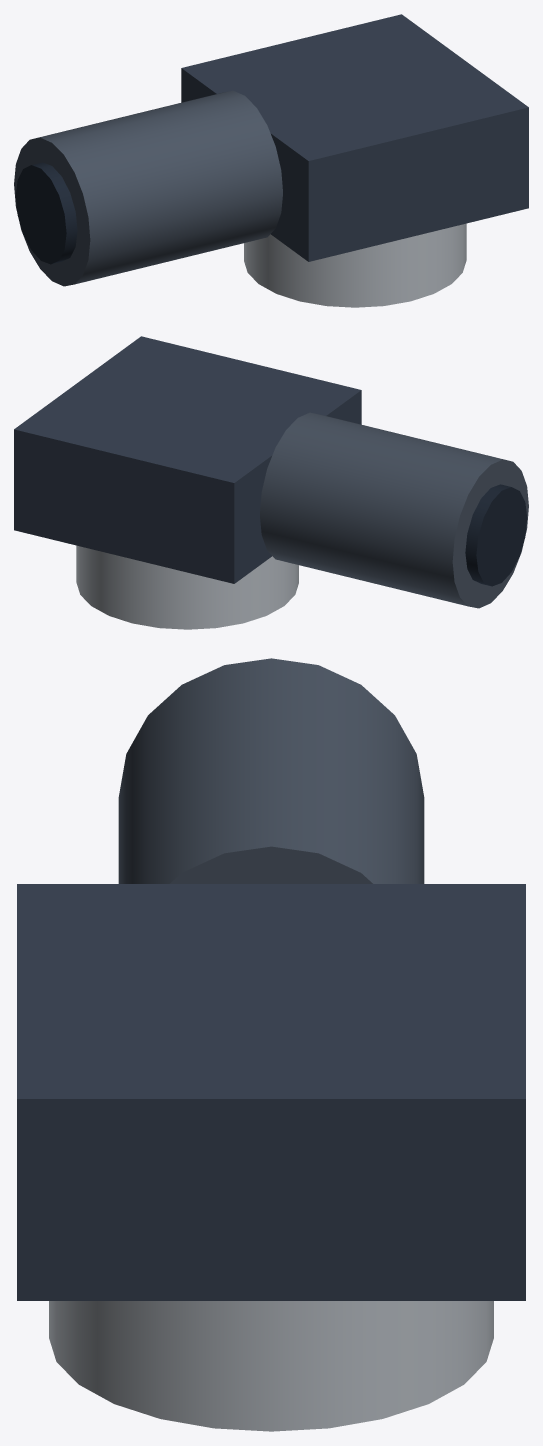
Rendered from diverter_arm.glb.
3 renders of one model, top to bottom at view 1: azimuth 30°, elevation 25°; view 2: azimuth 150°, elevation 25°; view 3: azimuth 270°, elevation 25°, orthographic. The views are drawn at different scales.
Visible parts, largest first — view 1: drive; view 2: drive; view 3: drive.
Part boxes in pixels (<box>): drive: <box>14,14,528,307</box>; drive: <box>14,336,528,629</box>; drive: <box>17,658,525,1431</box>.
Bounding box in the file's own units: 0.154 × 0.0665 × 0.08.
